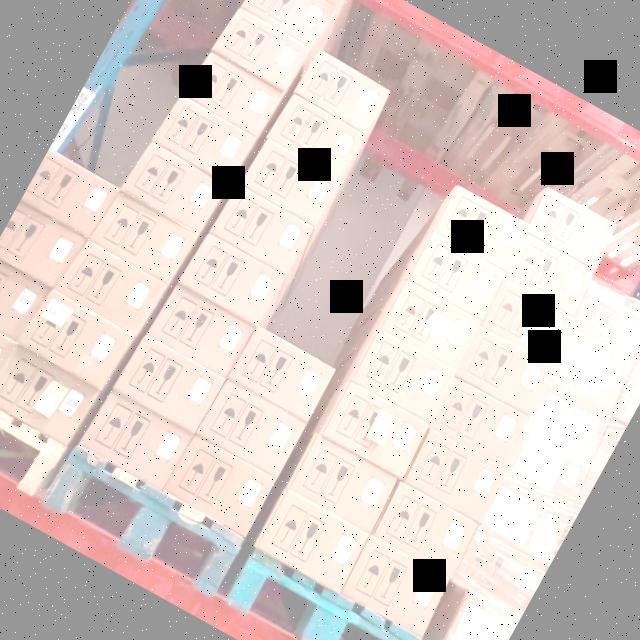box: (254, 488, 369, 594), (339, 534, 451, 640), (163, 434, 277, 536), (19, 289, 133, 389), (77, 390, 193, 488), (286, 432, 398, 533), (112, 337, 226, 434), (319, 382, 430, 481), (195, 380, 306, 478), (226, 325, 336, 422), (372, 482, 477, 579), (91, 192, 199, 286), (55, 242, 164, 335), (146, 285, 256, 376), (350, 329, 455, 423), (402, 429, 506, 523), (178, 234, 284, 326), (378, 279, 481, 371), (121, 144, 226, 234), (0, 349, 99, 444), (209, 186, 313, 276), (406, 230, 505, 321), (429, 378, 528, 469), (451, 528, 546, 621), (240, 141, 340, 227), (182, 53, 283, 137), (155, 98, 255, 182), (480, 277, 575, 365), (455, 326, 550, 414), (210, 8, 311, 90), (477, 478, 572, 565), (432, 186, 528, 272), (292, 50, 389, 135), (266, 94, 364, 178), (502, 424, 594, 510), (525, 186, 618, 269), (505, 232, 595, 316), (524, 375, 612, 459), (547, 332, 631, 413), (569, 289, 640, 369), (241, 0, 337, 45)
